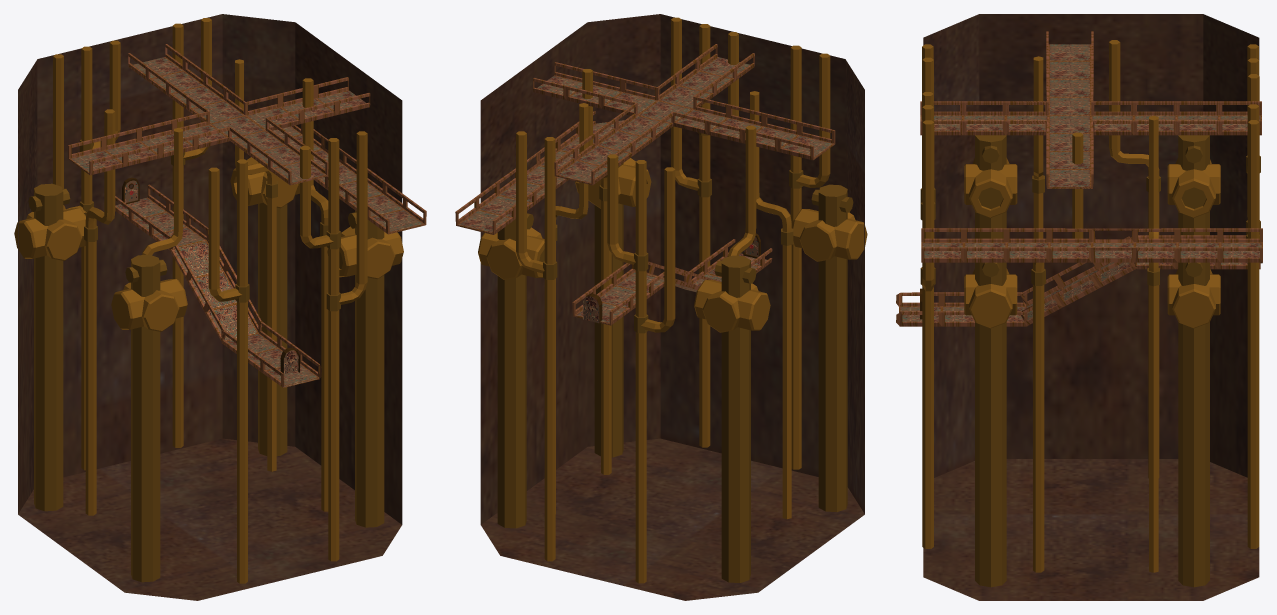
Rendered from arena1.5.fbx.
3 views of the same model, side by side, from view 1: azimuth 30°, elevation 25°; view 2: azimuth 150°, elevation 25°; view 3: azimuth 270°, elevation 25° (orthographic). The views are drawn at different scales.
Visible parts, largest first — view 1: wall.001, Cylinder.001, Plane.002; view 2: wall.001, Cylinder.001, Plane.002; view 3: wall.001, Cylinder.001, Plane.002.
Boxes of the visible parts, x1,y1,x2,y2 form: wall.001: [18, 14, 402, 600]; Cylinder.001: [14, 18, 403, 583]; Plane.002: [68, 44, 426, 387]; wall.001: [480, 14, 864, 600]; Cylinder.001: [478, 17, 867, 583]; Plane.002: [455, 44, 835, 325]; wall.001: [923, 14, 1259, 600]; Cylinder.001: [920, 40, 1260, 587]; Plane.002: [896, 31, 1262, 326].
Size of the model in its own units: 203 by 294 by 218.
Materials: 13 (6 with a texture image).
